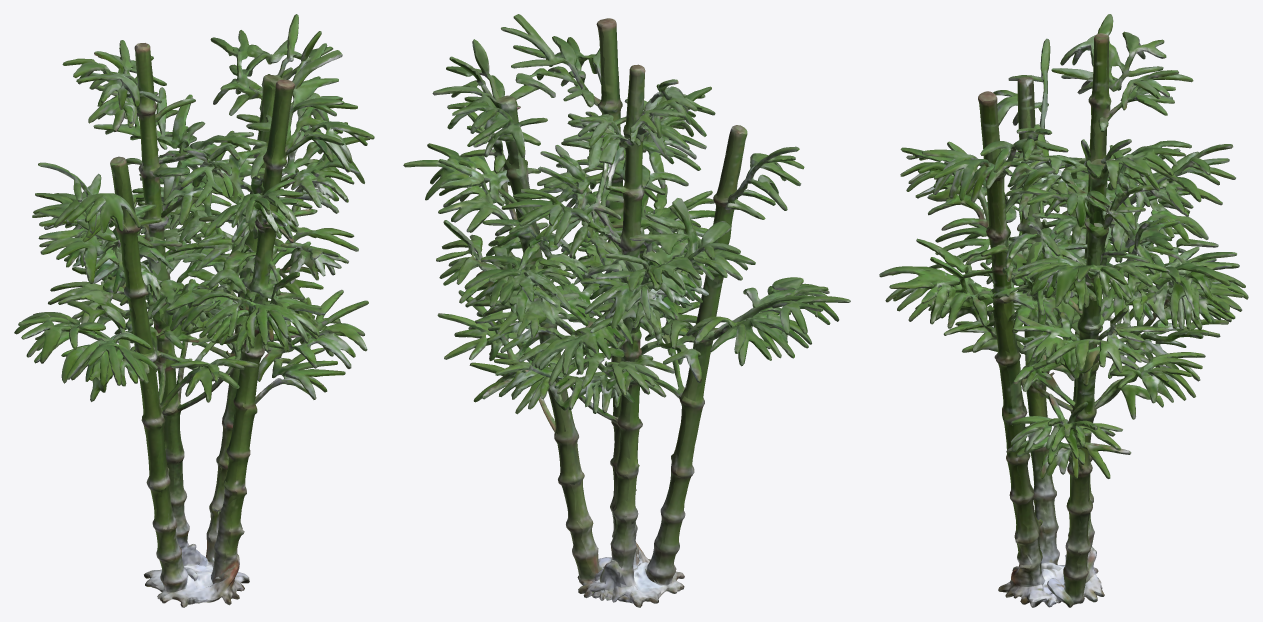
The model's file is bamboo.glb.
The picture shows the model from 3 angles, left to right: view 1: azimuth 30°, elevation 25°; view 2: azimuth 150°, elevation 25°; view 3: azimuth 270°, elevation 25°; orthographic projection. The views are drawn at different scales.
Visible parts, largest first — view 1: geometry_0; view 2: geometry_0; view 3: geometry_0.
Boxes of the visible parts, x1,y1,x2,y2 form: geometry_0: (14,14,374,607); geometry_0: (403,14,850,607); geometry_0: (879,14,1248,607).
Size of the model in its own units: 1.87 by 2.5 by 1.55.
Materials: 1 (1 with a texture image).
